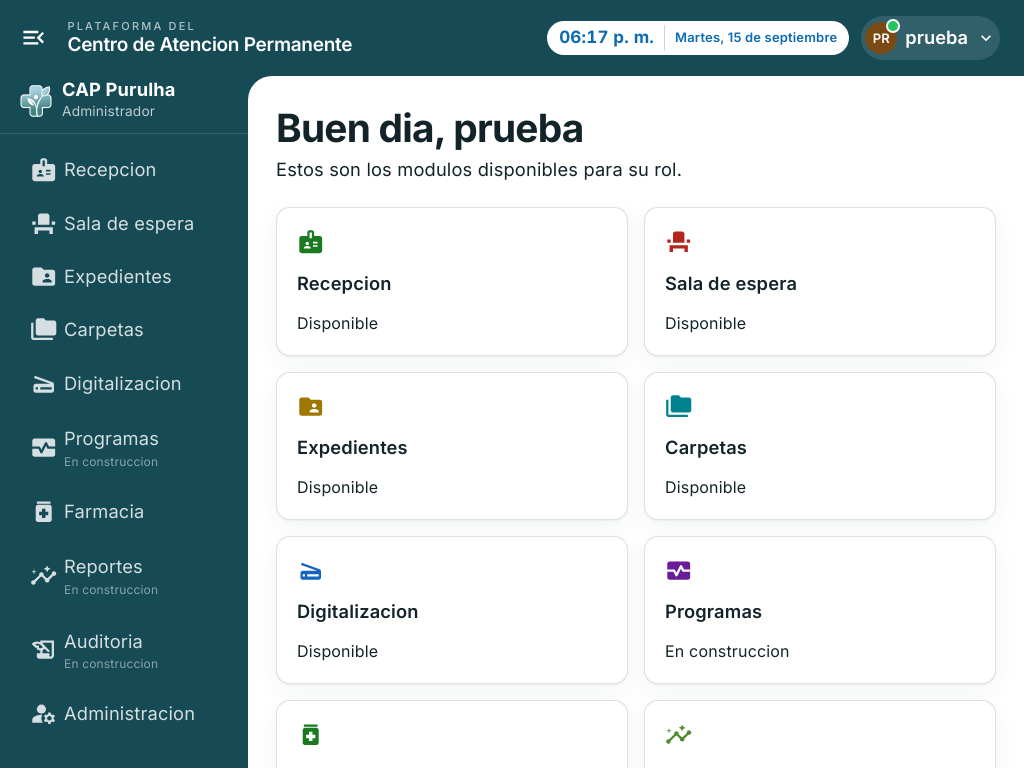
Scenario: contraer el menu lateral › el boton de la barra lo contrae y lo vuelve a desplegar
Expected: the navigation bar named "Modulos del sistema" shows "Recepcion", [8, 144, 240, 196]
What coordinates should you click on to do the following:
click the button named "Contraer el menu"
I would click on:
 (34, 38)
Its box is [12, 16, 55, 60].
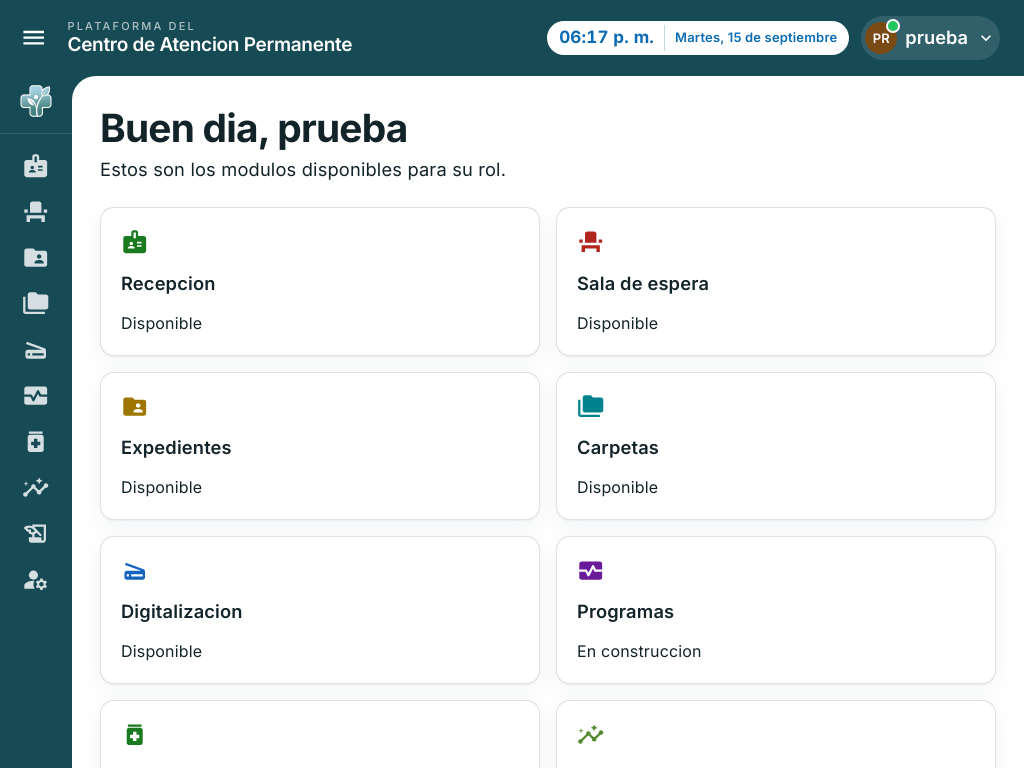
Expected: the navigation bar named "Modulos del sistema" does not show "Recepcion", [0, 69, 72, 767]
Y el boton ahora ofrece lo contrario.
What coordinates should you click on to do the following:
click the button named "Desplegar el menu"
I would click on:
 (34, 38)
Its box is [12, 16, 55, 60].
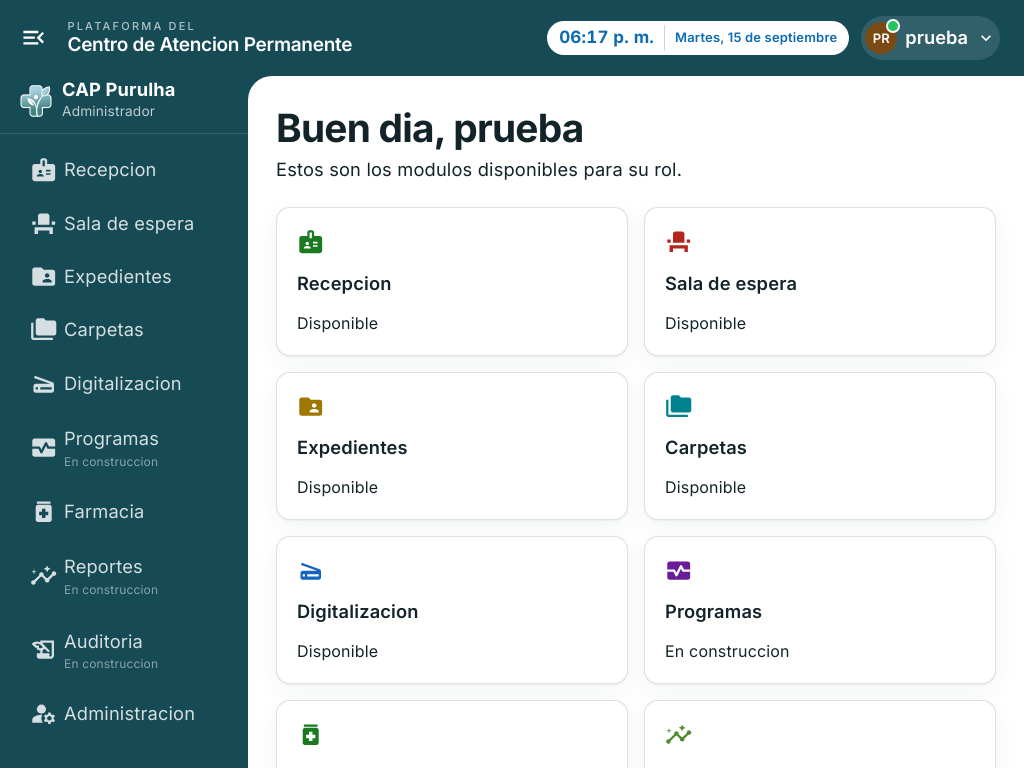
Expected: the navigation bar named "Modulos del sistema" shows "Recepcion", [8, 144, 240, 196]
